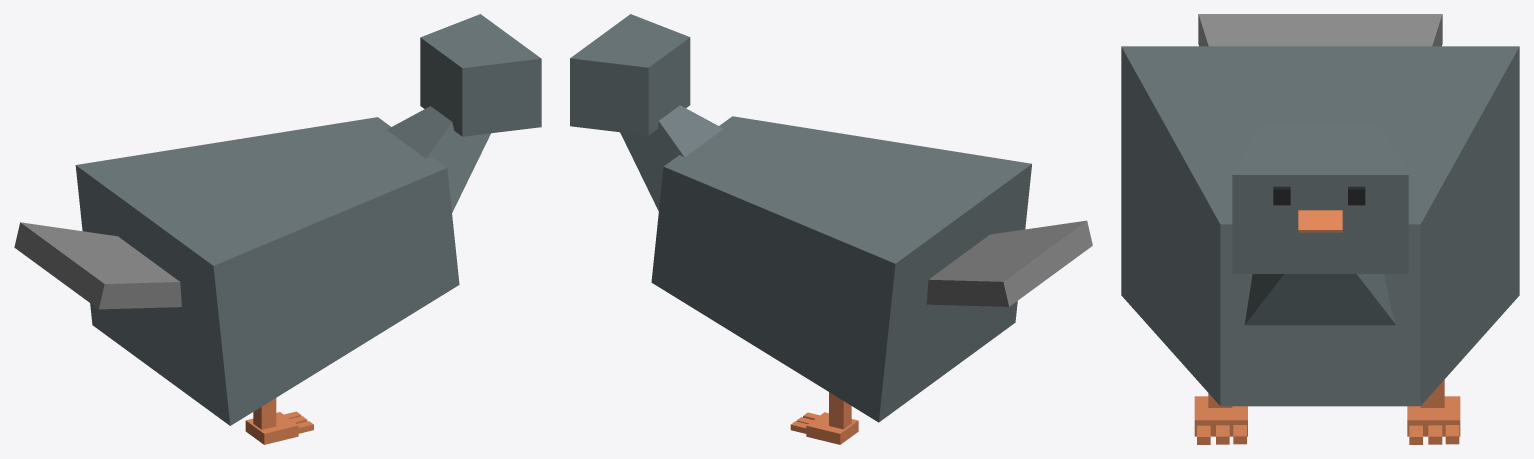
File: Pigeon.fbx
3 views of the same model, side by side, from view 1: azimuth 30°, elevation 25°; view 2: azimuth 150°, elevation 25°; view 3: azimuth 270°, elevation 25° (orthographic). The views are drawn at different scales.
Visible parts, largest first — view 1: Pigeon; view 2: Pigeon; view 3: Pigeon.
Boxes of the visible parts, <box> form: Pigeon: <box>14,14,541,444</box>; Pigeon: <box>570,14,1092,444</box>; Pigeon: <box>1121,14,1519,444</box>.
Size of the model in its own units: 44.77 by 27.99 by 22.8.
